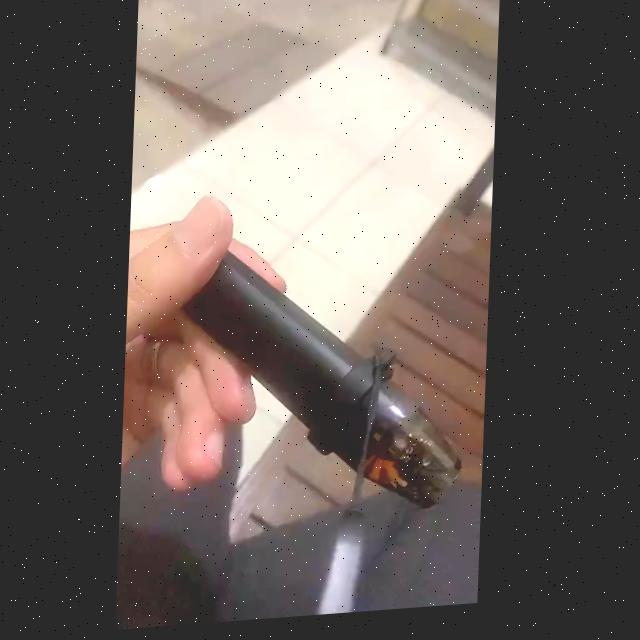vape: (182, 242, 476, 530)
